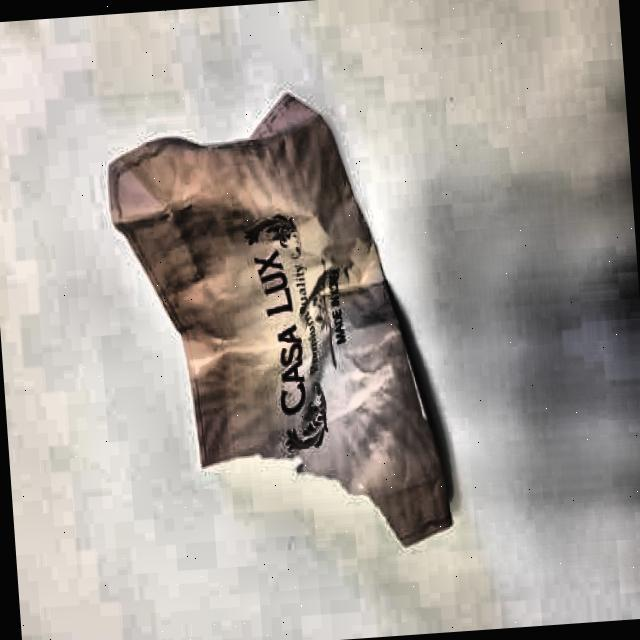paper: (105, 83, 459, 554)
